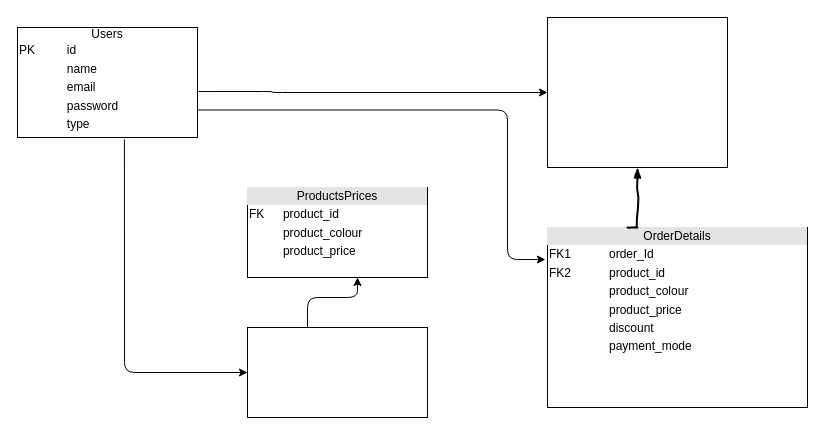
The diagram is 825 pixels wide and 435 high, and some of its shapes have lost their labels. Here are the shapes that lost their labels. From the top down, the centre of each, then its label:
pixel 637 92: Orders PK id FK1 user_id order_time total_price net_price payment_mode
pixel 337 372: Products PK id product_name
